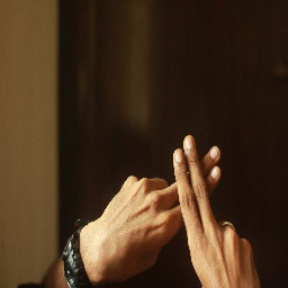F: (143, 121, 251, 253)
